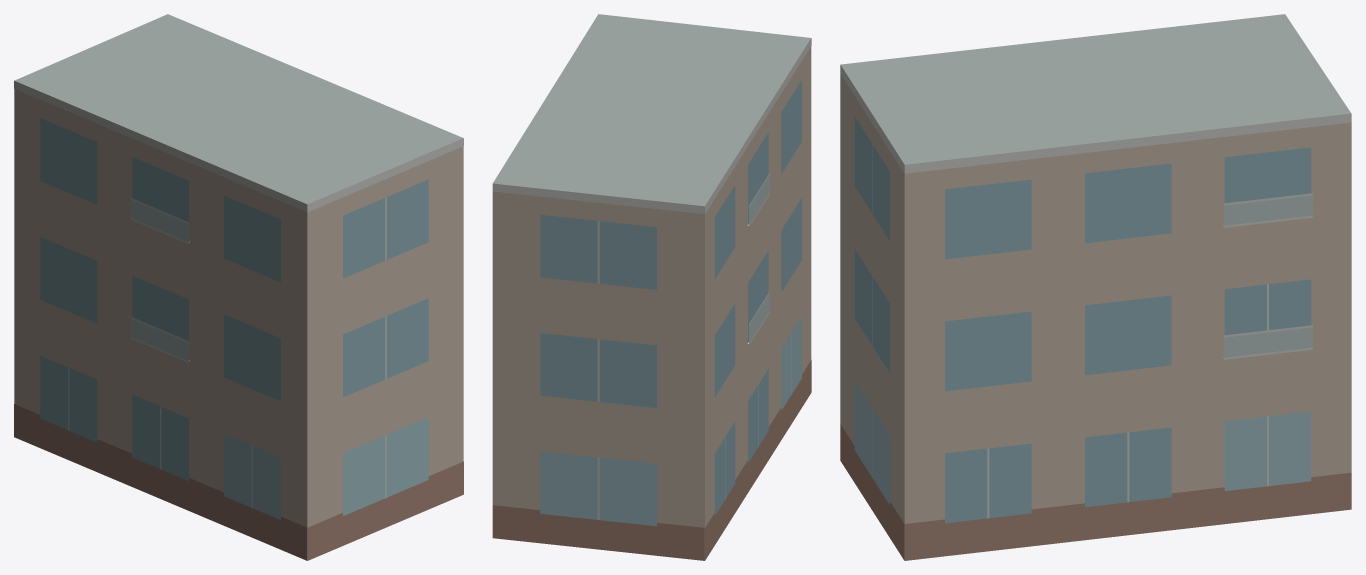
The model's file is survey-upis-32569388.glb.
The picture shows the model from 3 angles, left to right: view 1: azimuth 30°, elevation 25°; view 2: azimuth 150°, elevation 25°; view 3: azimuth 270°, elevation 25°; orthographic projection. The views are drawn at different scales.
Parts seen in each view (by area): view 1: survey-upis-32569388.tmp; view 2: survey-upis-32569388.tmp; view 3: survey-upis-32569388.tmp.
Part boxes in pixels (x1,y1,x2,y2): survey-upis-32569388.tmp: [14, 14, 463, 560]; survey-upis-32569388.tmp: [492, 14, 811, 560]; survey-upis-32569388.tmp: [840, 14, 1351, 560].
Bounding box in the file's own units: 8.92 × 10.9 × 12.76.
